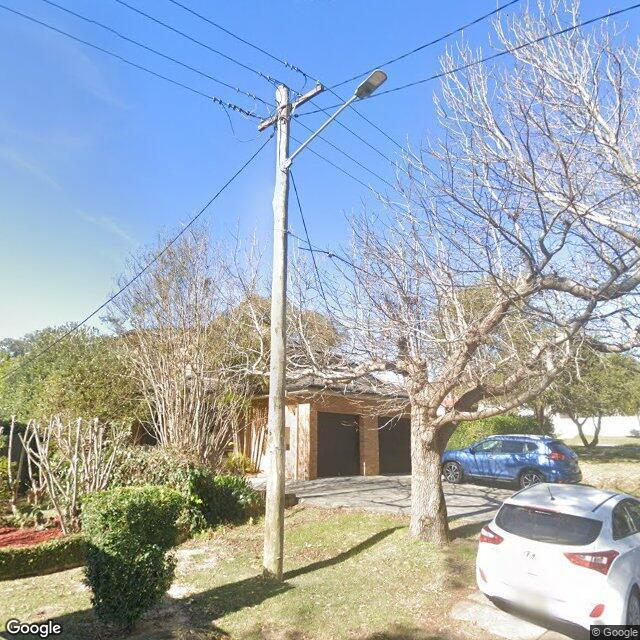crossarm: (256, 83, 324, 131)
streetlight: (284, 69, 388, 170)
timber-pole: (260, 82, 289, 585)
